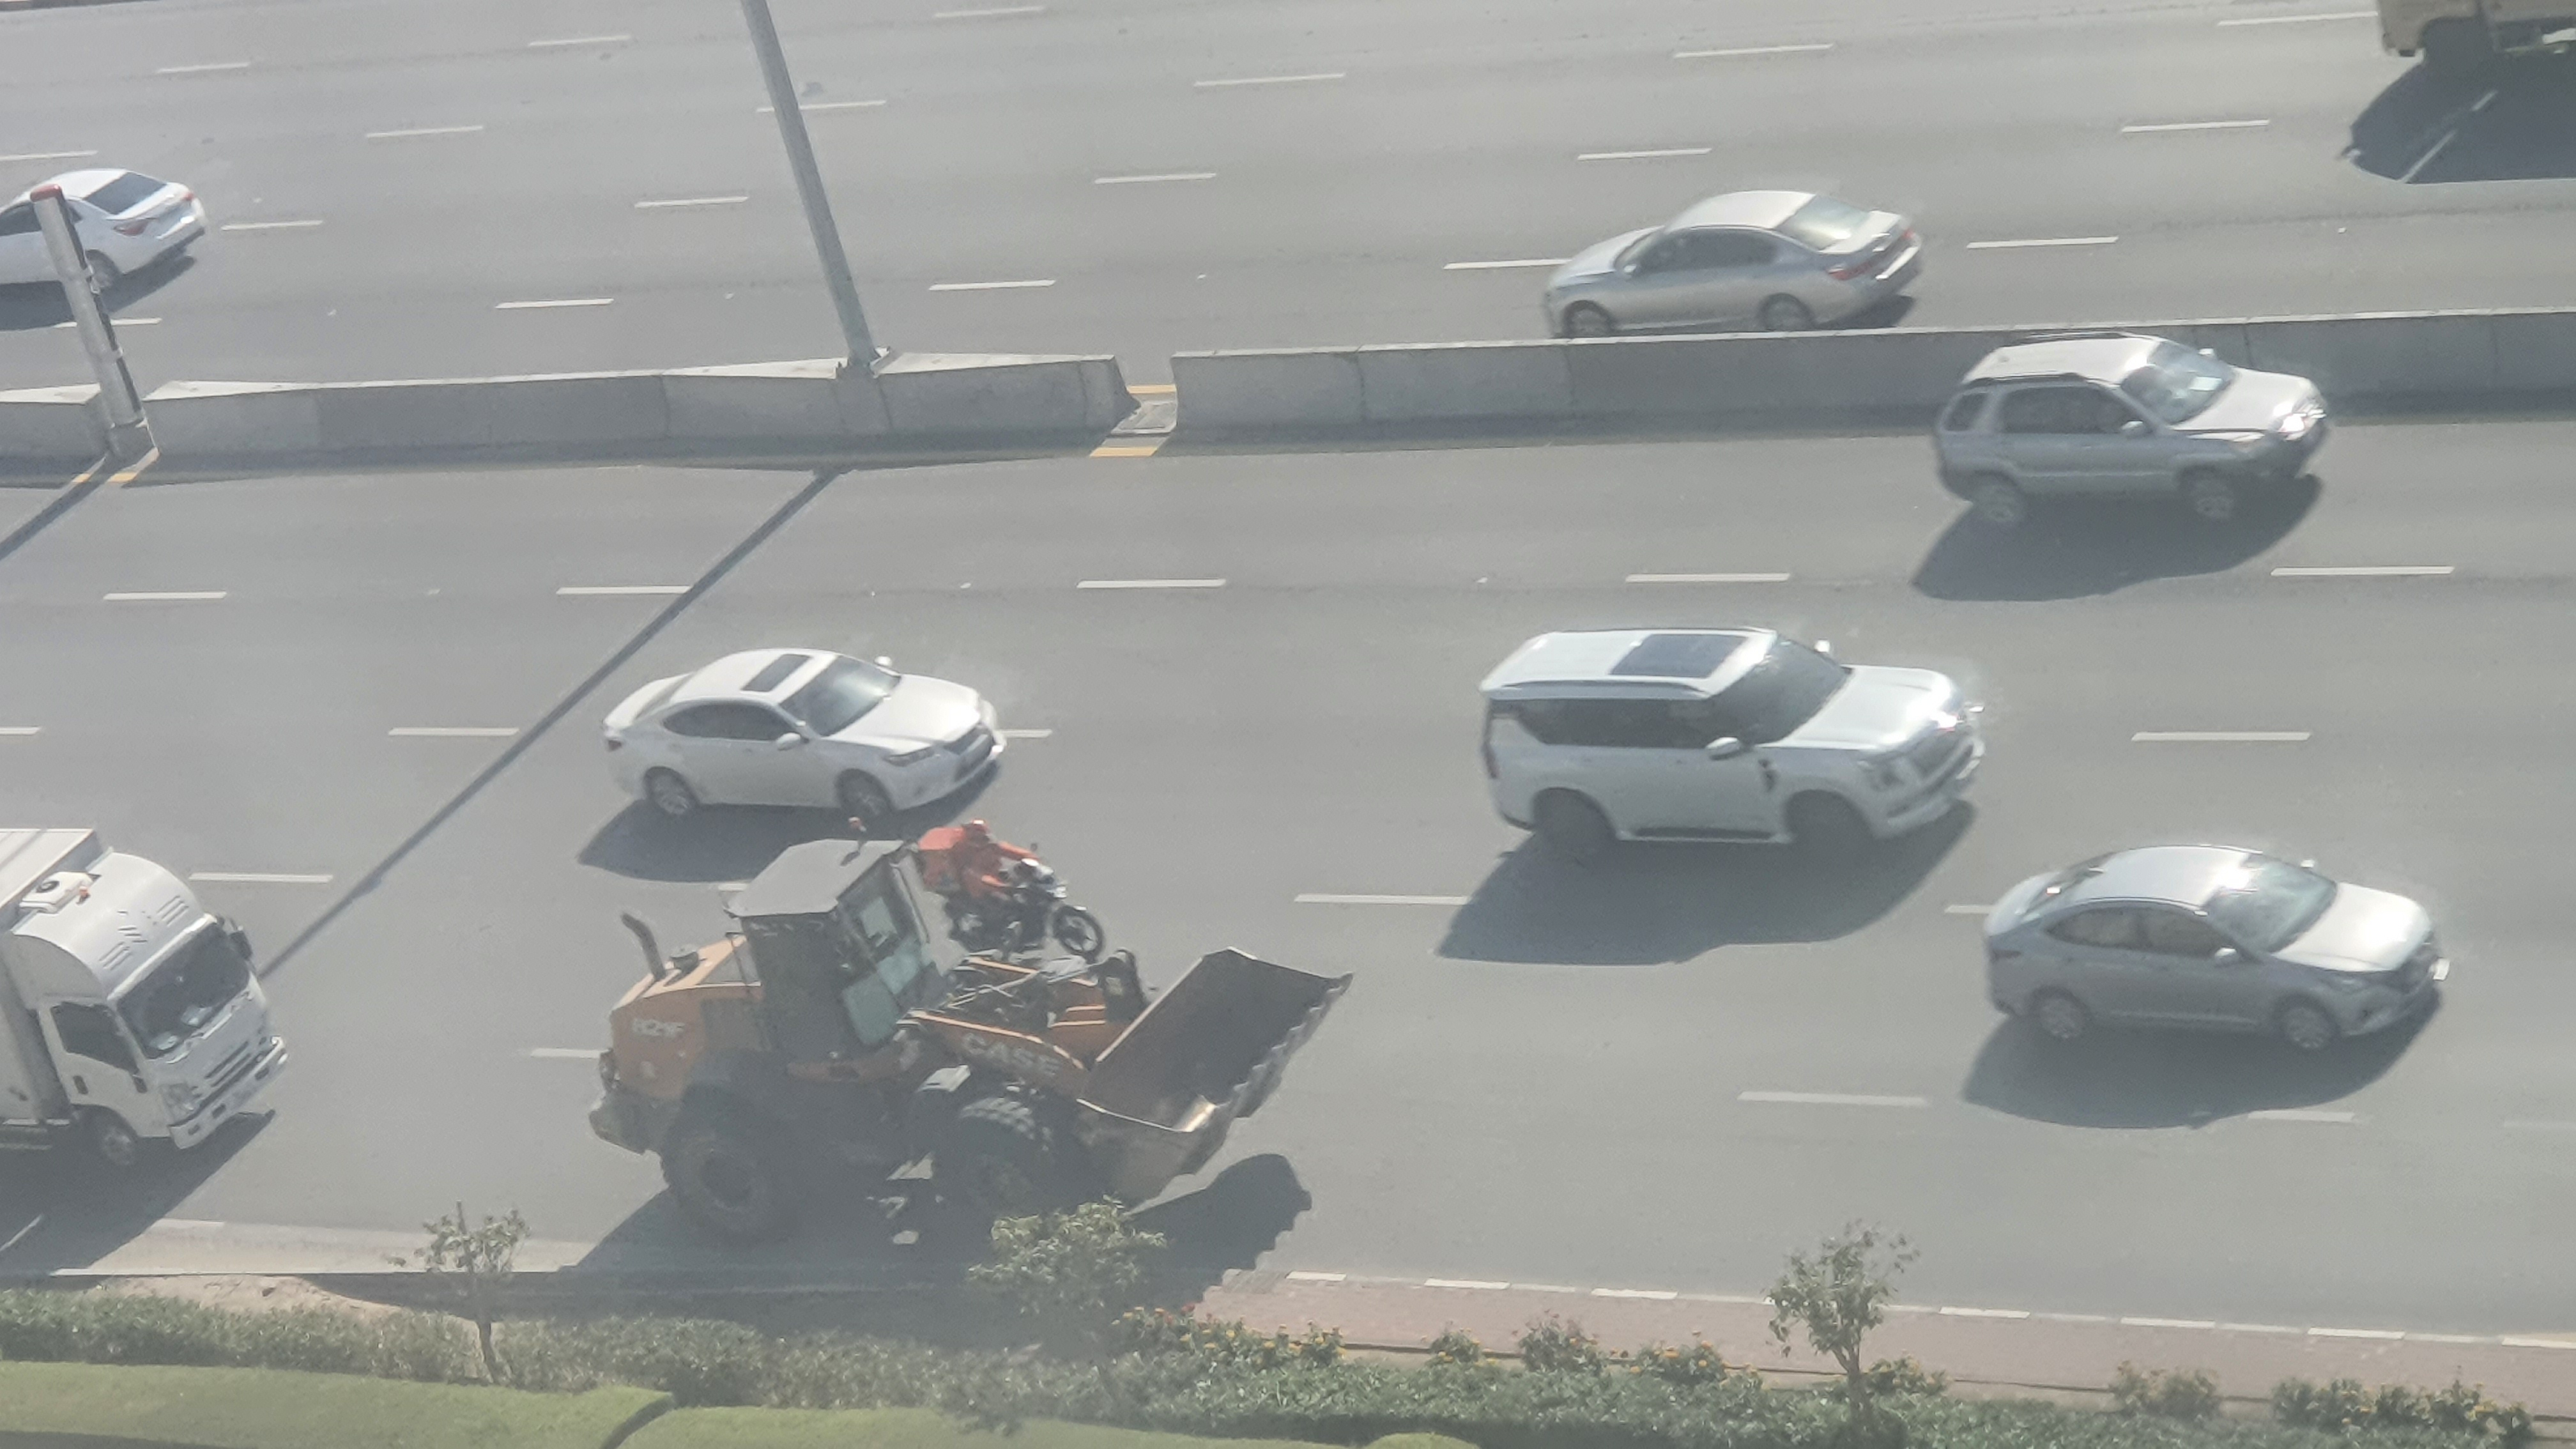NotSunroof: (1989, 847, 2449, 1058), (1927, 322, 2339, 536)
Sunroof: (1470, 605, 1982, 879), (598, 632, 1007, 832)
